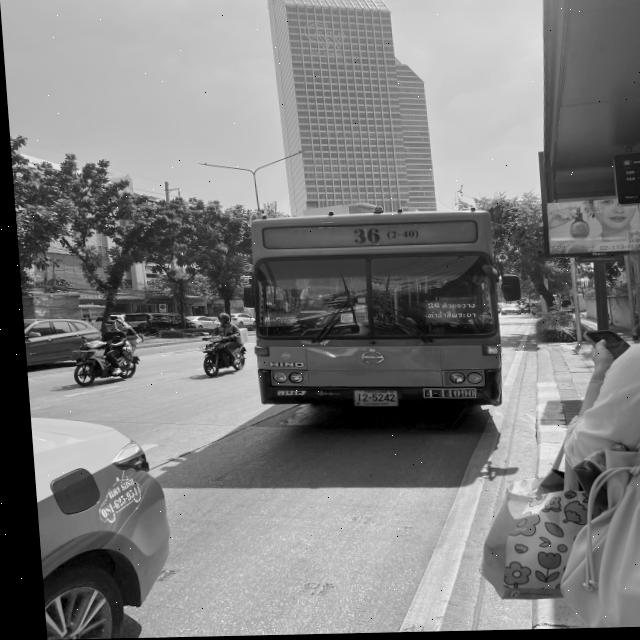BMTA-bus: (237, 212, 502, 418)
Bus-Line-Number: (337, 225, 426, 252)
Destination-Sign-Normal: (416, 300, 476, 328)
